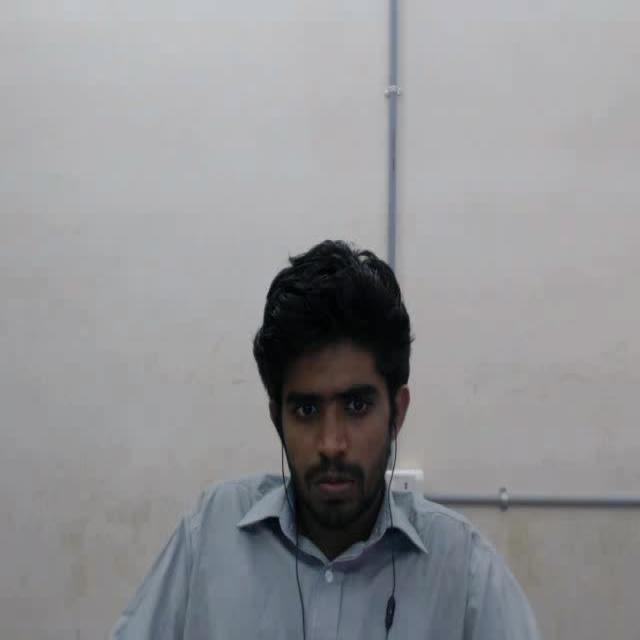Engaged: (219, 187, 426, 589)
